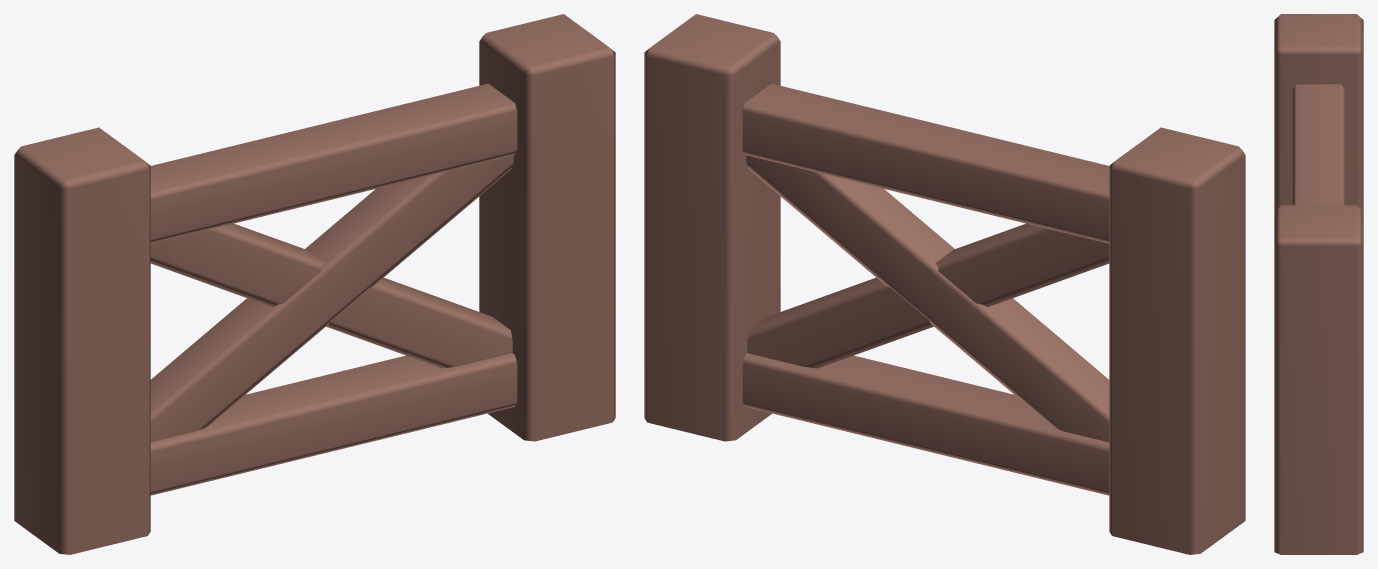
Rendered from Farm_9_Fence_1.glb.
The picture shows the model from 3 angles, left to right: view 1: azimuth 30°, elevation 25°; view 2: azimuth 150°, elevation 25°; view 3: azimuth 270°, elevation 25°; orthographic projection. The views are drawn at different scales.
Visible parts, largest first — view 1: Farm_9_Fence_1; view 2: Farm_9_Fence_1; view 3: Farm_9_Fence_1.
Boxes of the visible parts, <box> form: Farm_9_Fence_1: <box>14,14,615,554</box>; Farm_9_Fence_1: <box>644,14,1245,554</box>; Farm_9_Fence_1: <box>1274,14,1363,554</box>.
Size of the model in its own units: 2.32 by 1.49 by 0.3822.
Materials: 1 (1 with a texture image).
